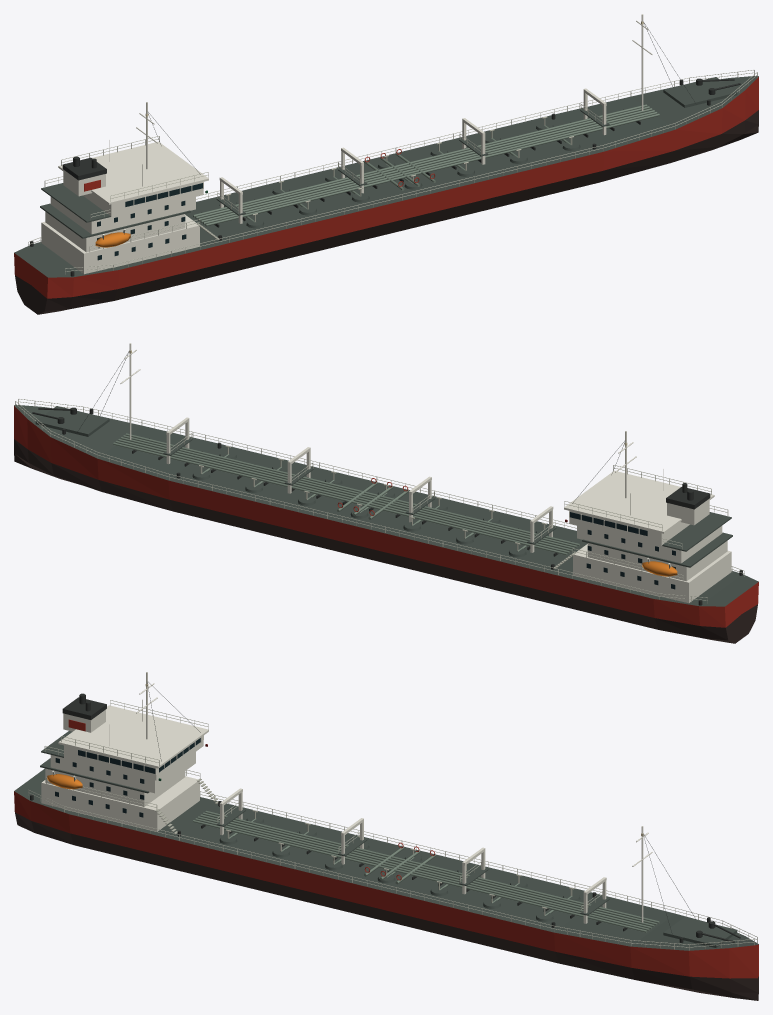
The model's file is river-sea-tanker-near.glb.
3 views of the same model, one above another, from view 1: azimuth 30°, elevation 25°; view 2: azimuth 150°, elevation 25°; view 3: azimuth 330°, elevation 25° (orthographic).
Visible parts, largest first — view 1: tanker_deck, tanker_red, tanker_white, tanker_underwater, tanker_pipe, tanker_metal, tanker_graphite, tanker_glass; view 2: tanker_deck, tanker_red, tanker_white, tanker_underwater, tanker_pipe, tanker_metal, tanker_graphite, tanker_glass; view 3: tanker_deck, tanker_red, tanker_white, tanker_underwater, tanker_pipe, tanker_metal, tanker_graphite, tanker_glass.
Boxes of the visible parts, <box> form: tanker_deck: <box>14,76,758,277</box>; tanker_red: <box>14,77,758,298</box>; tanker_white: <box>41,14,652,274</box>; tanker_underwater: <box>15,110,758,314</box>; tanker_pipe: <box>193,104,659,226</box>; tanker_metal: <box>28,70,757,274</box>; tanker_graphite: <box>30,22,740,276</box>; tanker_glass: <box>97,183,202,260</box>; tanker_deck: <box>14,405,758,606</box>; tanker_red: <box>14,406,758,627</box>; tanker_white: <box>120,343,731,603</box>; tanker_underwater: <box>14,439,757,643</box>; tanker_pipe: <box>113,433,579,555</box>; tanker_metal: <box>15,399,744,603</box>; tanker_graphite: <box>32,351,742,605</box>; tanker_glass: <box>570,512,675,589</box>; tanker_deck: <box>14,731,758,950</box>; tanker_red: <box>14,719,758,978</box>; tanker_white: <box>41,672,652,923</box>; tanker_underwater: <box>15,812,758,1000</box>; tanker_pipe: <box>193,810,659,932</box>; tanker_metal: <box>28,700,757,950</box>; tanker_graphite: <box>30,682,740,942</box>; tanker_glass: <box>55,738,200,817</box>.
Bounding box in the file's own units: 138 × 32.5 × 18.27.
